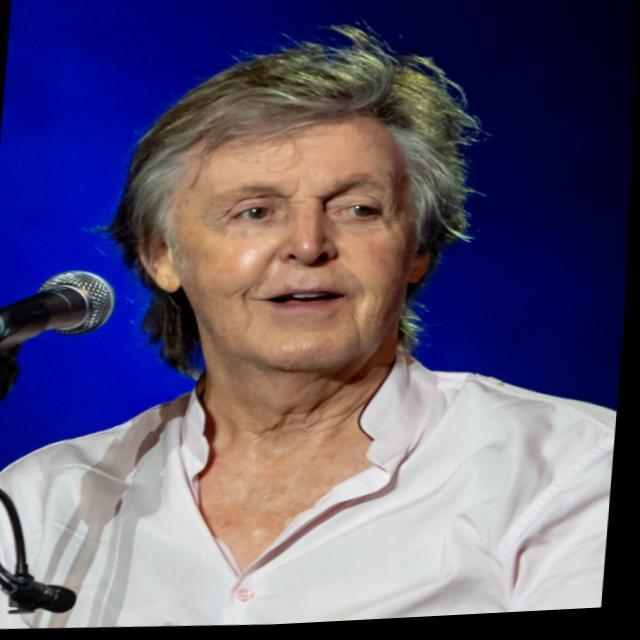Nonhelmet: (100, 20, 486, 379)
